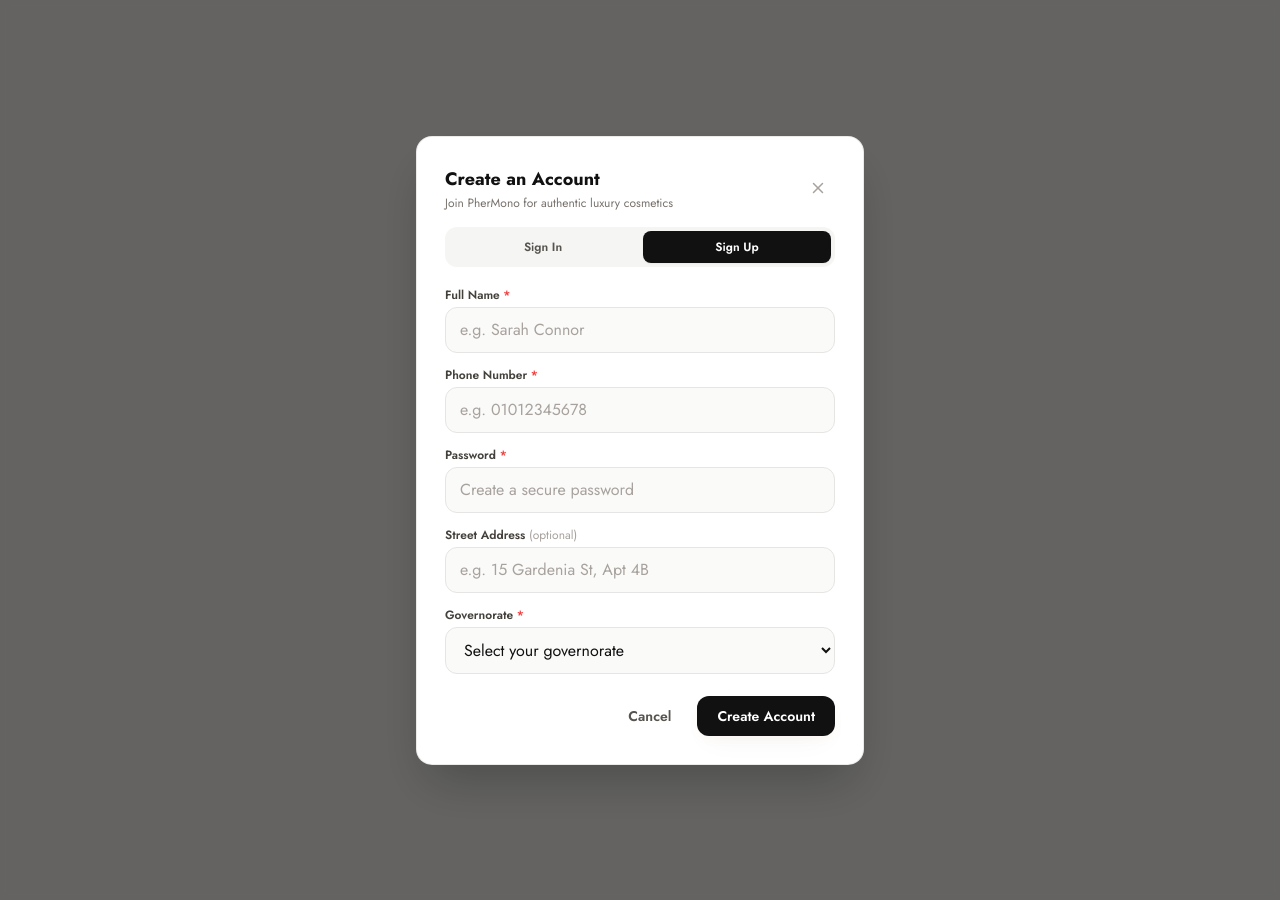
Scenario: AuthModal auth flow › keeps the modal open and shows the server error on failed sign in
Click the button "Sign In". click: click(543, 246)
box: [449,230,637,262]
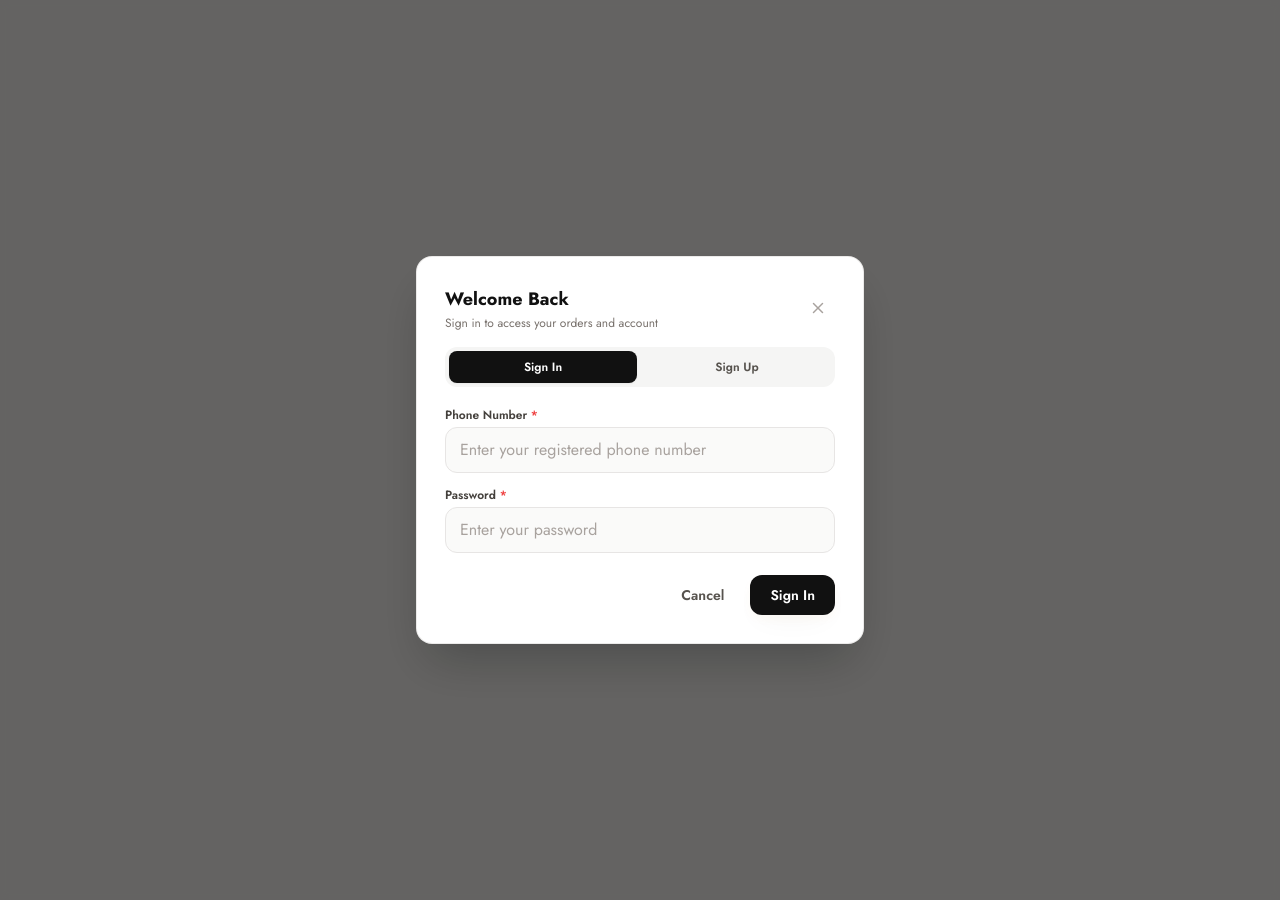
Type "01000000000" into the field with placeholder "Enter your registered phone number". click: (640, 450)
box: [445,427,835,473]
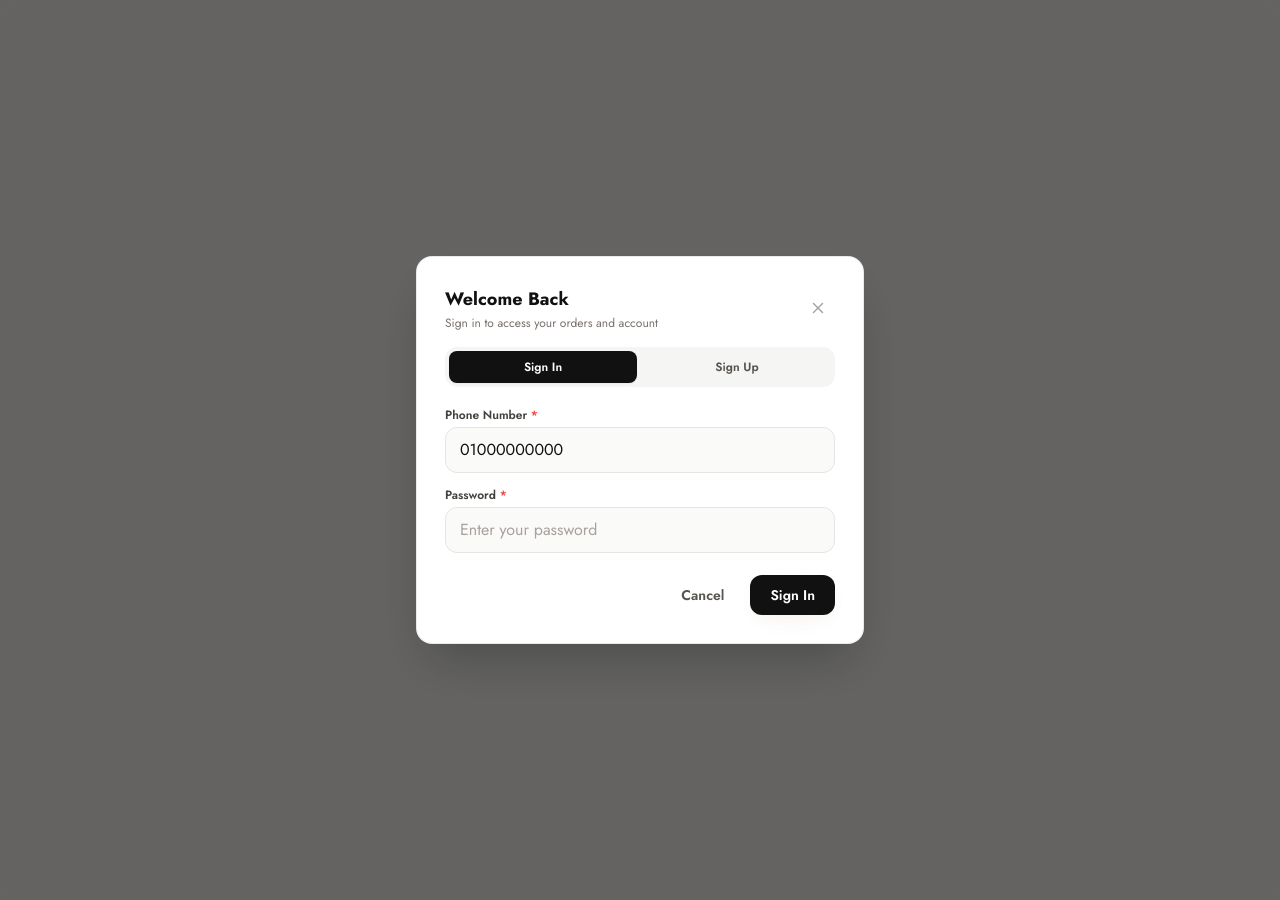
Type "wrongpass" into the password field with placeholder "Enter your password". click: (640, 530)
box: [445,507,835,553]
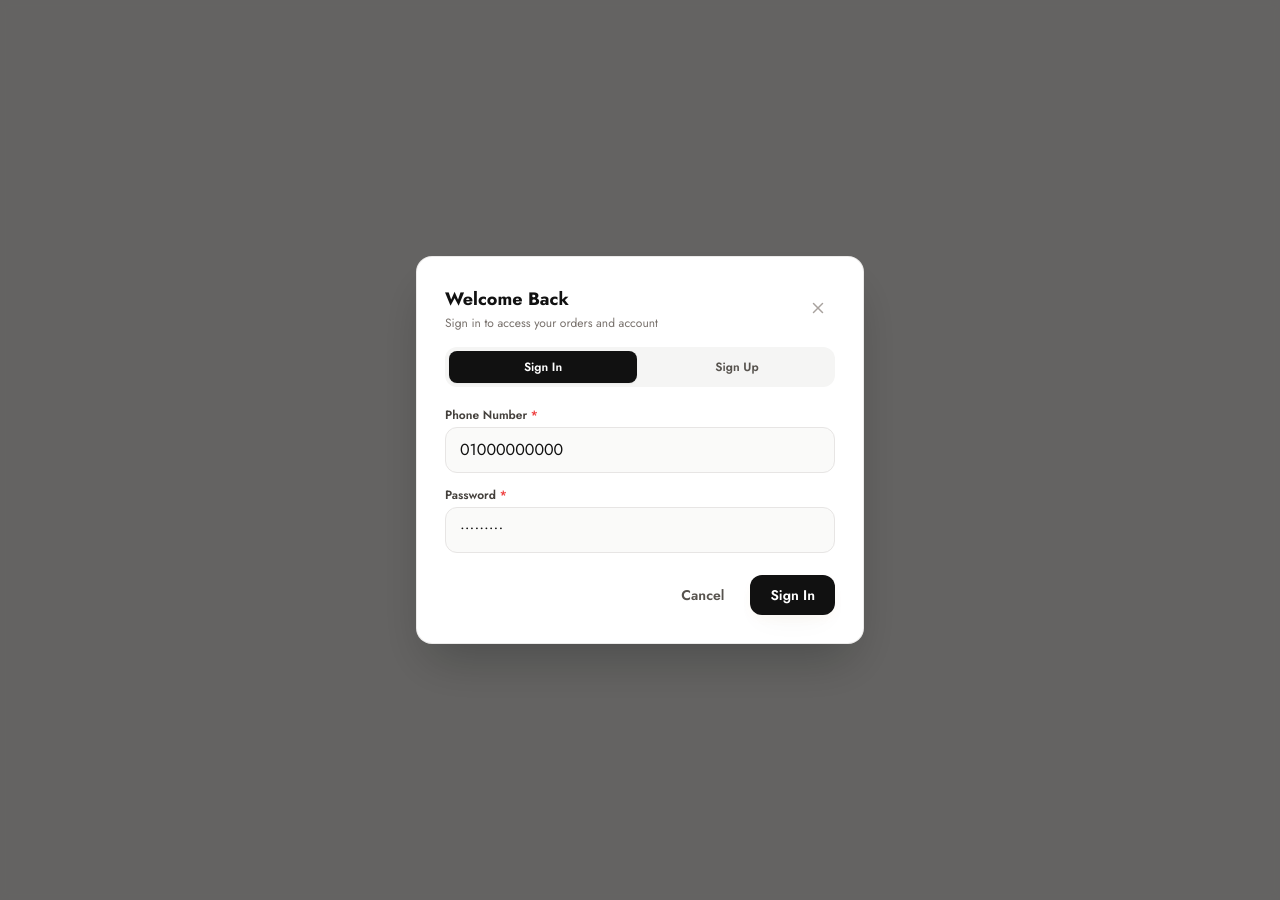
Click the submit button. click: click(793, 595)
box: [750,575,835,615]
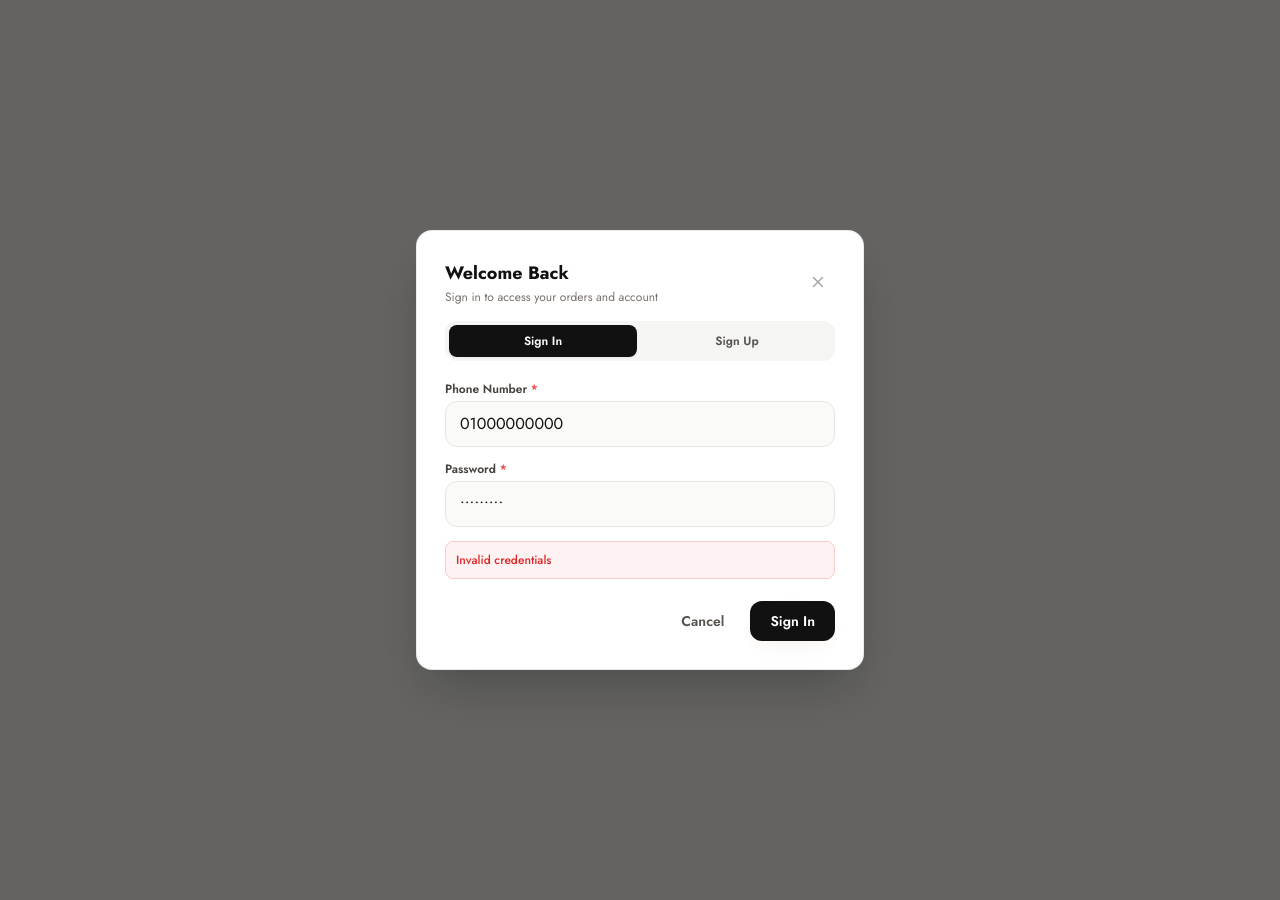
Result: the text "Invalid credentials" is shown at [445,541,835,579]
